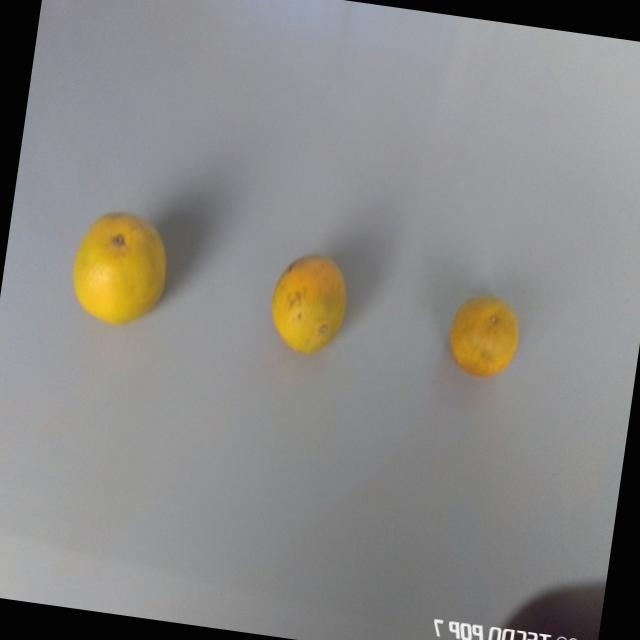agrume: (50, 194, 188, 353), (252, 244, 368, 368), (435, 280, 529, 386)
